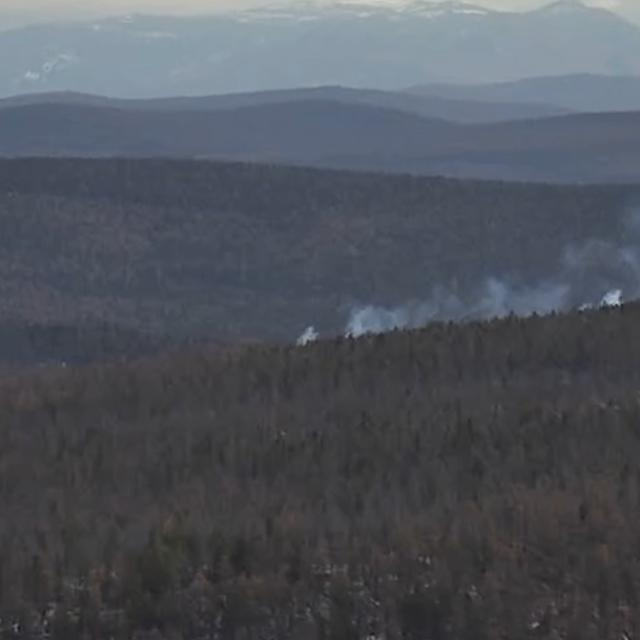Smoke: (286, 212, 640, 346)
